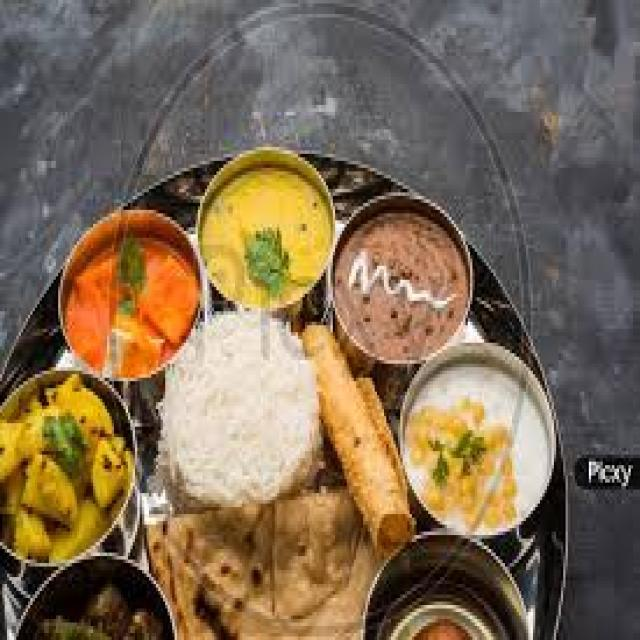papad: (307, 355, 414, 544)
rice: (165, 310, 315, 515), (402, 362, 547, 546)
roti: (158, 463, 385, 640)
sambar-rasam: (48, 197, 208, 389)
veg-fry: (0, 360, 138, 583), (336, 207, 468, 371)
